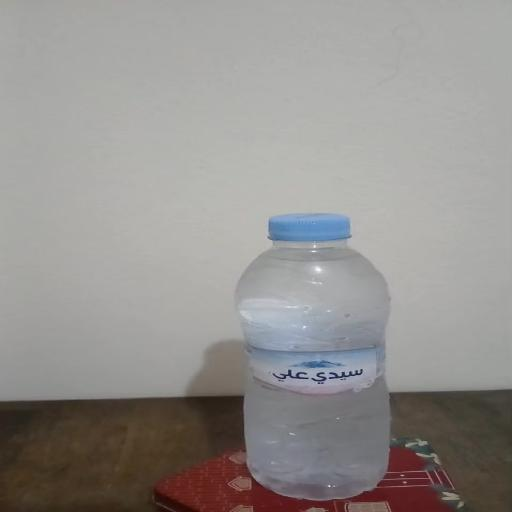bouteille conformite: (239, 213, 389, 499)
